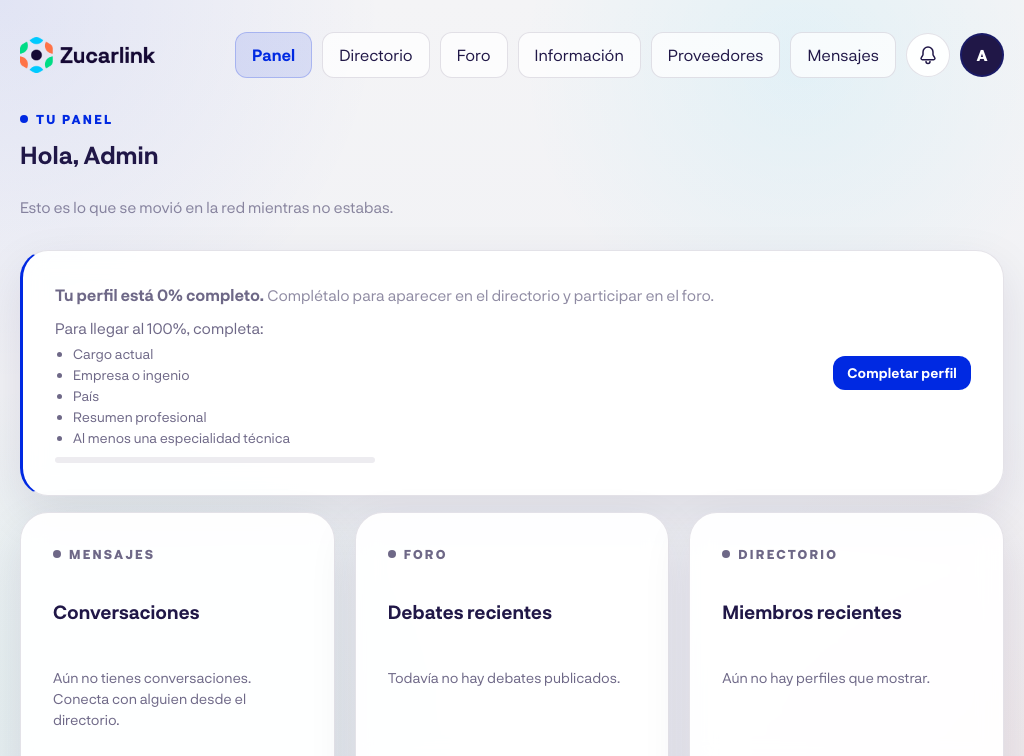
Scenario: lets an admin open the operational dashboard and switch the reporting period
Click the button named "Menú de usuario" at (982,55), box [960, 33, 1004, 77]
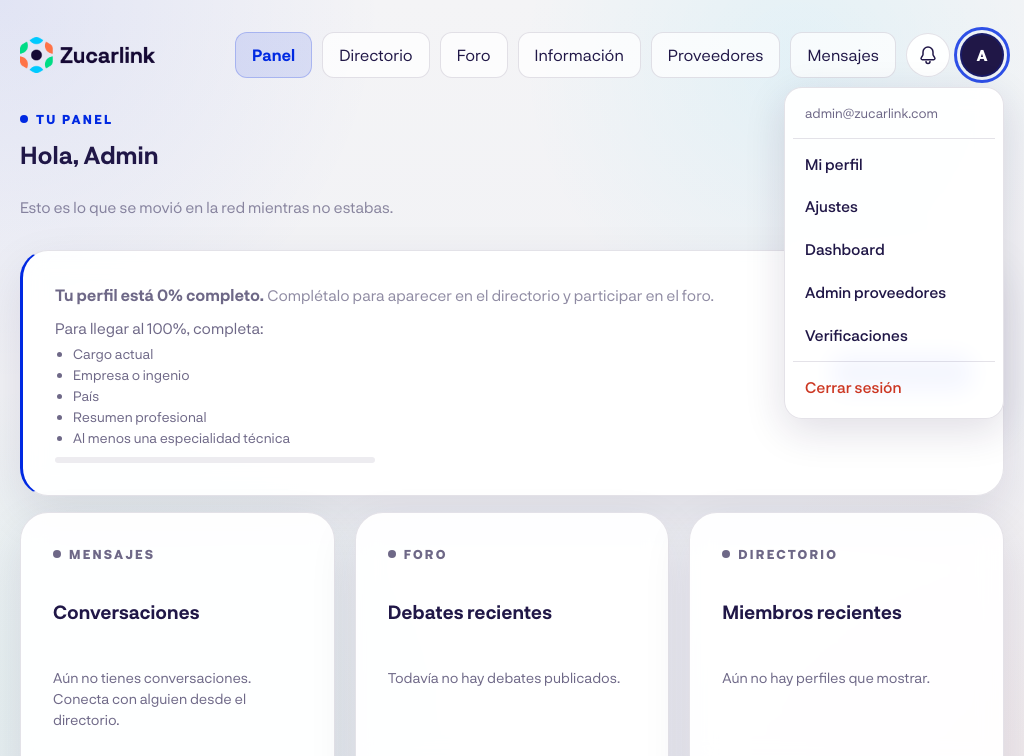
Click the menu item "Dashboard" at (845,249), box [805, 240, 885, 258]
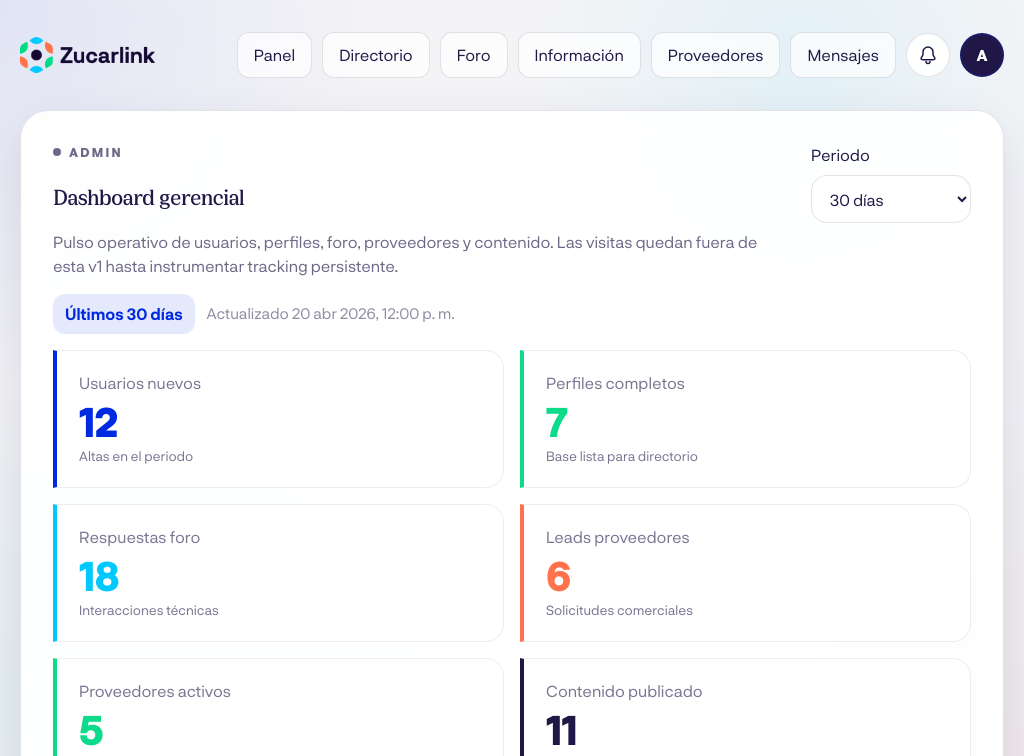
Now the text "Últimos 30 días" is shown, box [53, 294, 195, 334]
Now the text "Usuarios nuevos" is shown, box [79, 373, 201, 392]
Now the text "12" is shown, box [79, 397, 117, 445]
Select "90 días" in the dropdown labelled "Periodo" at (891,199), box [811, 175, 971, 223]
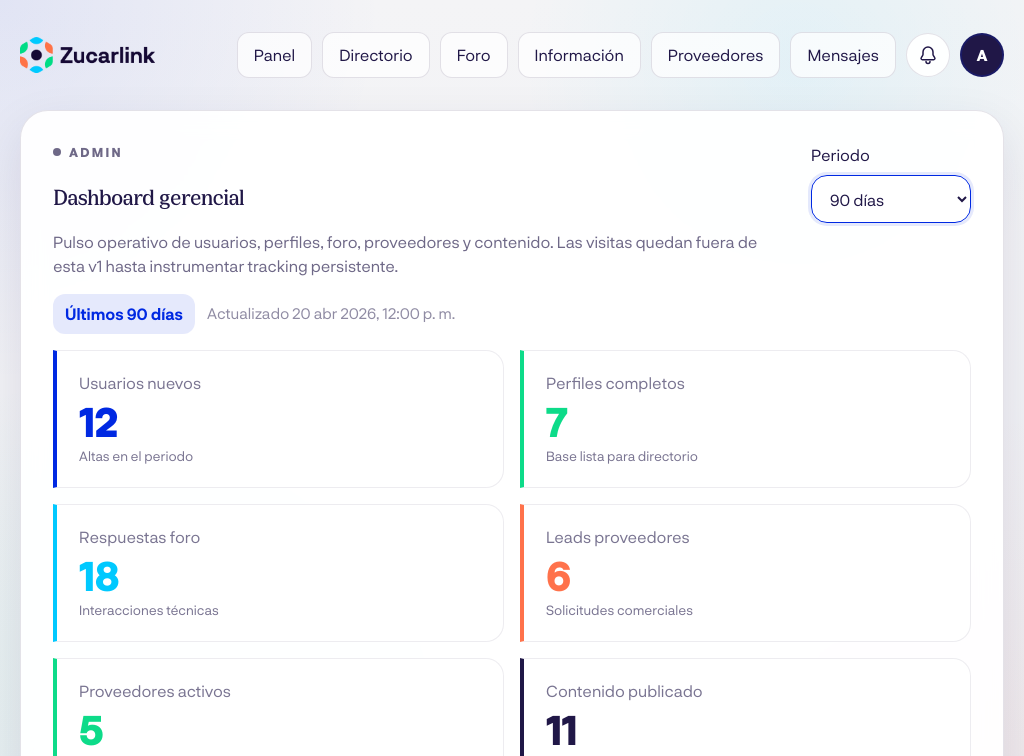
Now the text "Últimos 90 días" is shown, box [53, 294, 195, 334]
